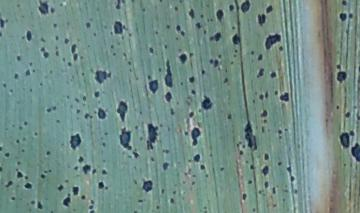tarspot: (242, 118, 259, 156), (162, 57, 176, 90), (144, 119, 158, 152), (91, 66, 113, 86), (263, 30, 283, 52), (118, 126, 134, 153), (114, 98, 129, 123), (188, 125, 202, 148), (111, 18, 127, 38), (68, 131, 83, 151), (200, 93, 214, 112), (228, 31, 244, 47), (349, 141, 360, 164), (332, 69, 350, 83), (207, 30, 225, 43), (34, 1, 50, 15), (173, 23, 187, 39), (37, 44, 51, 60), (140, 179, 157, 192), (186, 5, 198, 23), (162, 88, 175, 104), (339, 130, 349, 150), (176, 51, 190, 65), (59, 193, 72, 208), (277, 91, 292, 104), (259, 164, 272, 179), (145, 44, 158, 59), (95, 107, 108, 121), (208, 55, 221, 69), (70, 183, 82, 197), (147, 79, 159, 93), (23, 28, 34, 43), (256, 66, 267, 81), (95, 180, 109, 191), (214, 8, 225, 22), (239, 1, 253, 12), (261, 150, 272, 163), (91, 90, 104, 101), (167, 194, 178, 207), (82, 162, 92, 176), (69, 41, 79, 55), (270, 68, 279, 83), (55, 182, 67, 193), (160, 160, 171, 172), (186, 75, 197, 87), (71, 52, 82, 64), (190, 153, 203, 163), (100, 166, 110, 179), (258, 109, 271, 119), (240, 190, 250, 203), (12, 53, 25, 63), (14, 169, 25, 180), (75, 153, 86, 164), (1, 151, 12, 162), (283, 163, 294, 174), (187, 108, 197, 120), (262, 88, 272, 100), (36, 198, 44, 212), (22, 182, 33, 192), (198, 162, 208, 173), (4, 180, 15, 190), (226, 1, 236, 12), (337, 11, 347, 22), (9, 194, 19, 205), (22, 67, 33, 77), (199, 66, 208, 78), (289, 173, 298, 185), (10, 72, 22, 81), (1, 15, 8, 30), (38, 171, 48, 181), (246, 163, 258, 171), (265, 4, 274, 14), (189, 87, 198, 97), (262, 180, 271, 190), (257, 92, 265, 103), (344, 109, 351, 121), (256, 52, 264, 62), (222, 76, 230, 86), (348, 128, 356, 137), (340, 1, 348, 8)
